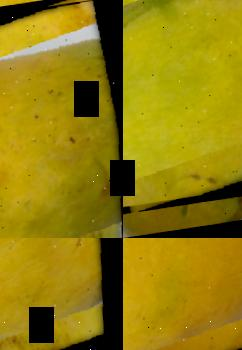PartiallyRipe: (0, 0, 123, 238), (123, 0, 242, 209)
Ripe: (0, 238, 123, 350), (123, 238, 242, 350)
